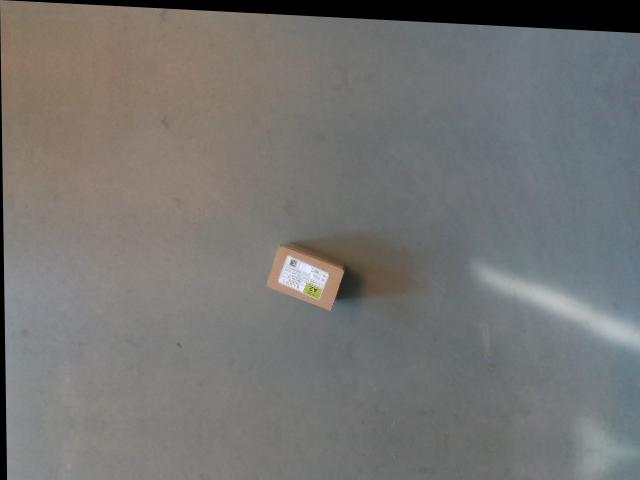label: (278, 256, 330, 300)
package: (266, 241, 344, 312)
